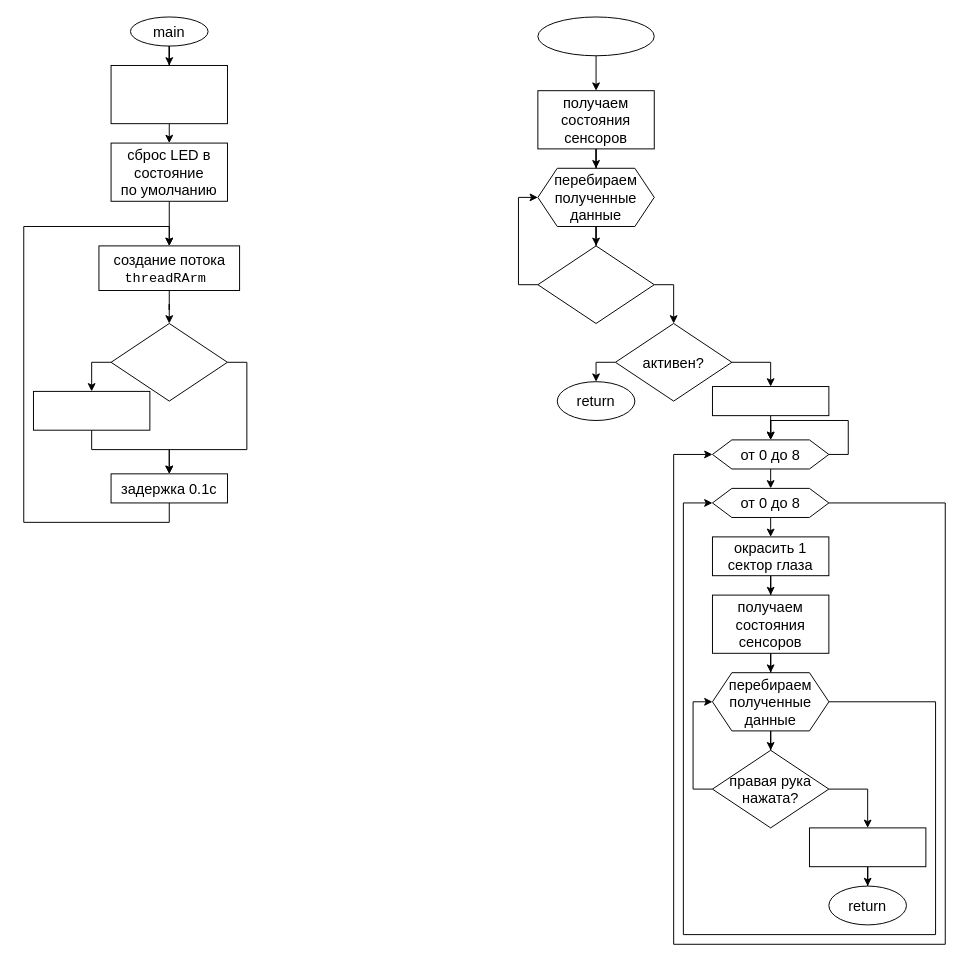
The diagram is 970 pixels wide and 969 high, and some of its shapes have lost their labels. Here are the shapes that lost their labels. From the top down, the centre of each, then its label:
At [595,36]: "threadRArm".
At [168,94]: "подключение интефейсов ALProxy".
At [595,284]: "серсор правой руки?".
At [168,362]: "поток активен?".
At [91,410]: "запустить поток threadRArm".
At [770,401]: "окрасить глаза".
At [867,847]: "окрасить глаза в белый".
